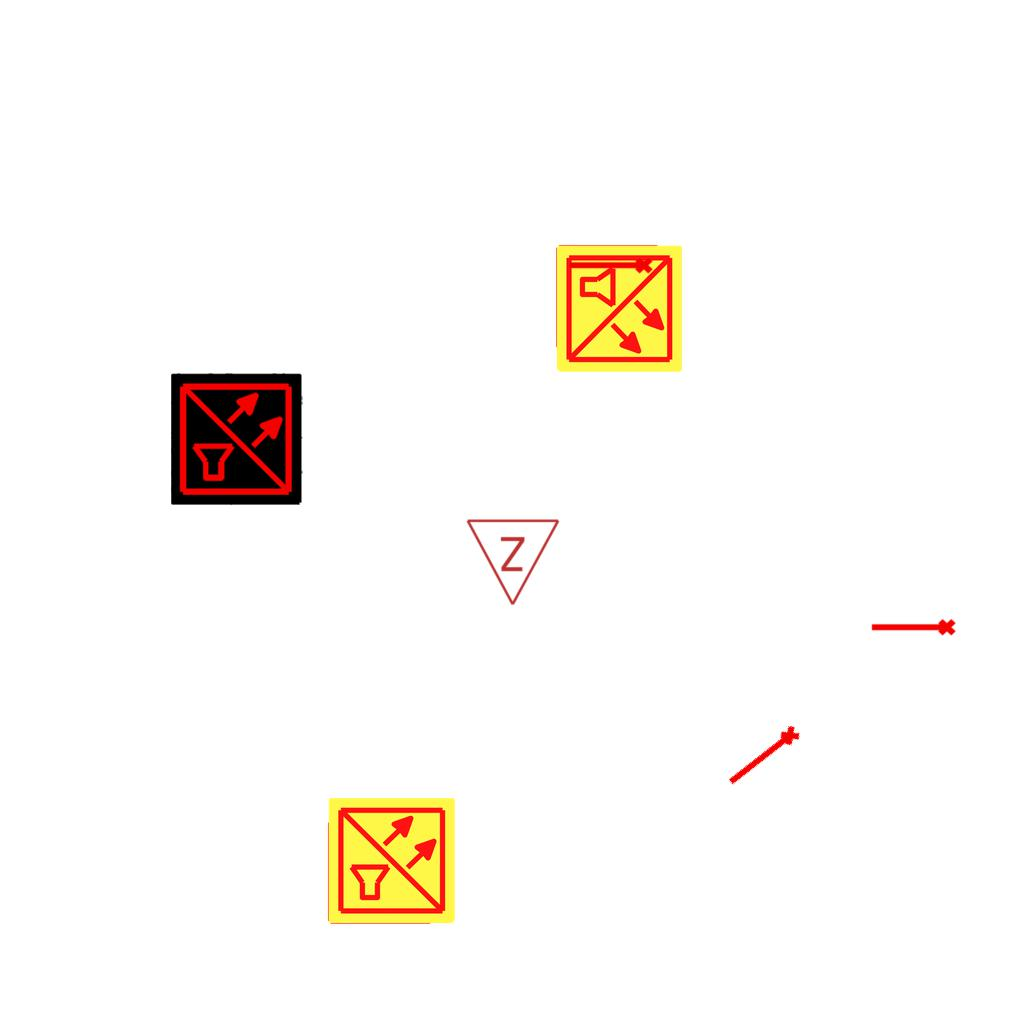ASR_Ansaugoeffnung: (722, 721, 806, 794), (869, 617, 957, 640), (566, 255, 654, 278)
OKW_Multisensormelder_(Kombination_optischer_Rauch-Kahlenmonoxid_Waerme-Melder): (171, 373, 303, 505), (326, 795, 458, 927), (553, 243, 685, 375)
Zimmersignalleuchte: (465, 512, 563, 612)
